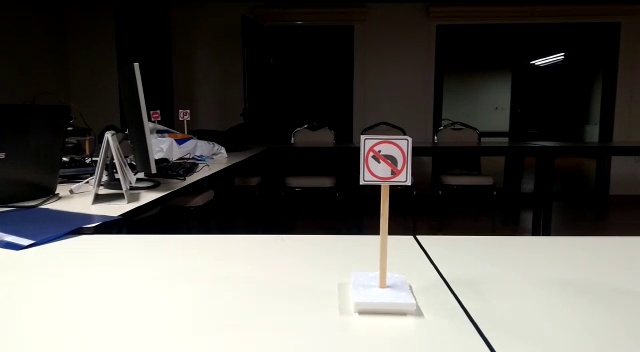sola_donulmez: (361, 137, 410, 183)
